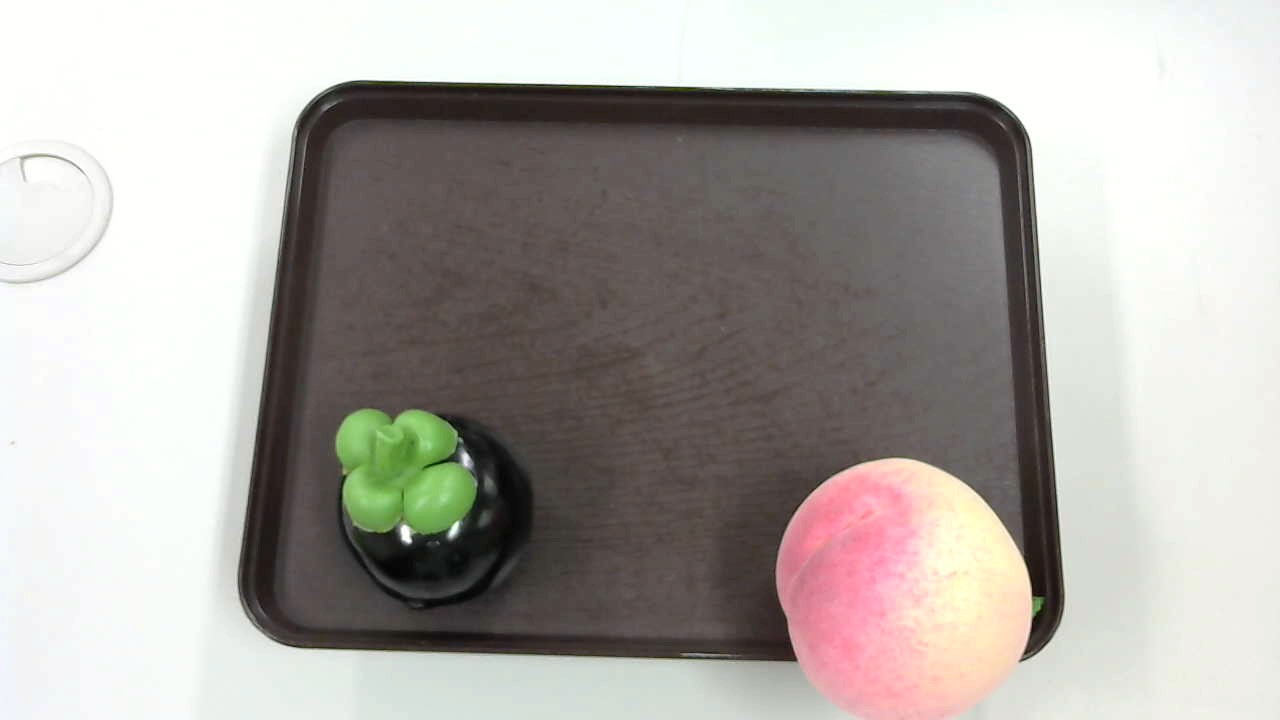mangosteen: (328, 398, 544, 609)
peach: (768, 460, 1038, 720)
